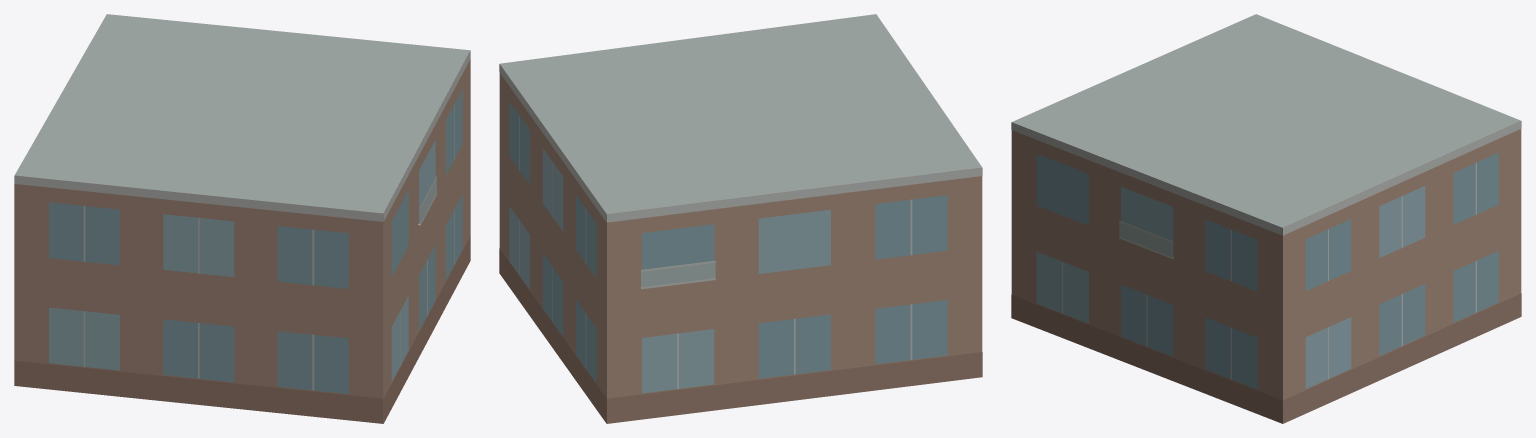
File: survey-upis-32850792.glb
3 renders of one model, left to right at view 1: azimuth 30°, elevation 25°; view 2: azimuth 150°, elevation 25°; view 3: azimuth 270°, elevation 25°, orthographic. The views are drawn at different scales.
Visible parts, largest first — view 1: survey-upis-32850792.tmp; view 2: survey-upis-32850792.tmp; view 3: survey-upis-32850792.tmp.
Boxes of the visible parts, bbox=[...] form: survey-upis-32850792.tmp: bbox=[14, 14, 470, 423]; survey-upis-32850792.tmp: bbox=[499, 14, 982, 423]; survey-upis-32850792.tmp: bbox=[1011, 14, 1521, 423].
Bounding box in the file's own units: 14.28 × 6.1 × 14.39.
